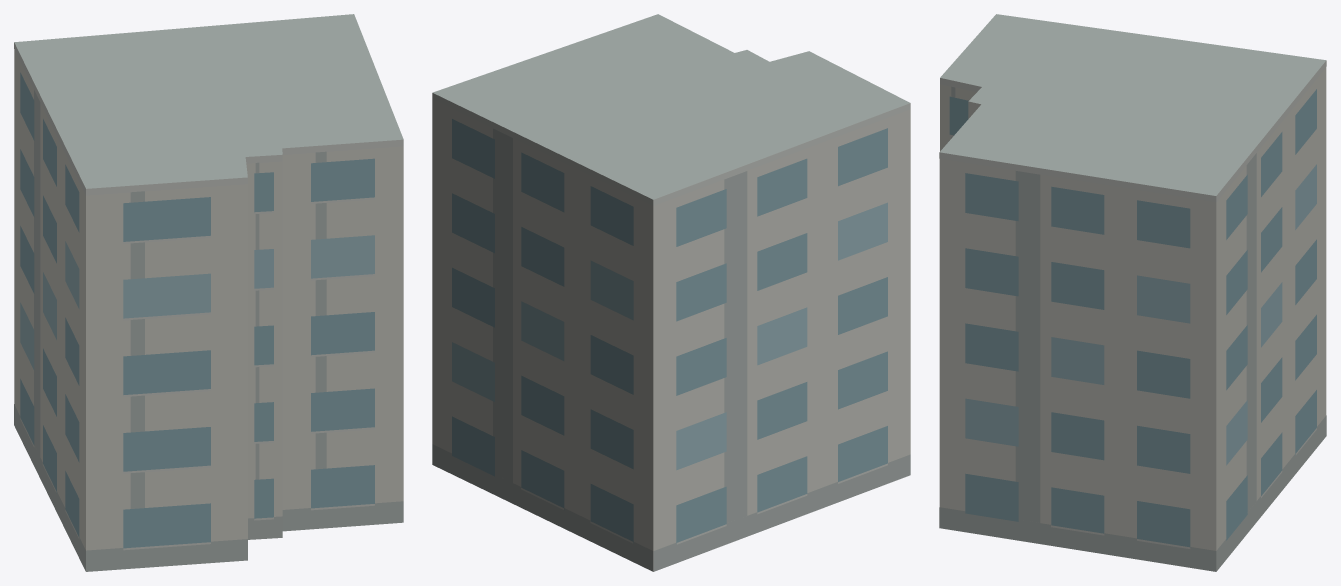
File: survey-upis-32854251.glb
3 renders of one model, left to right at view 1: azimuth 30°, elevation 25°; view 2: azimuth 150°, elevation 25°; view 3: azimuth 270°, elevation 25°, orthographic. The views are drawn at different scales.
Visible parts, largest first — view 1: survey-upis-32854251.tmp; view 2: survey-upis-32854251.tmp; view 3: survey-upis-32854251.tmp.
Boxes of the visible parts, x1=… form: survey-upis-32854251.tmp: x1=14, y1=14, x2=403, y2=571; survey-upis-32854251.tmp: x1=432, y1=14, x2=910, y2=571; survey-upis-32854251.tmp: x1=939, y1=14, x2=1326, y2=571.
Size of the model in its own units: 14.87 by 14.3 by 13.36.
